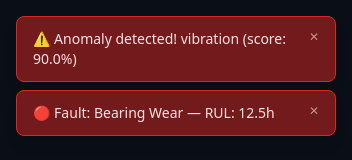
Test: AlertToast › can be dismissed manually
The image size is (352, 160).
Step 1. Click the 1st button "✕" → {"x": 314, "y": 37}, box left=309, top=29, right=319, bottom=45
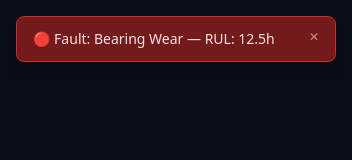
Expected: the number of buttons is 1, left=309, top=29, right=319, bottom=45
